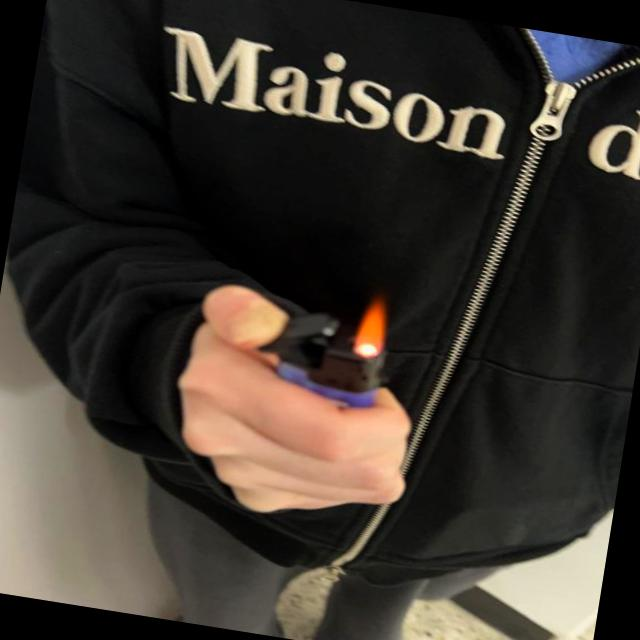fire: (353, 292, 393, 363)
